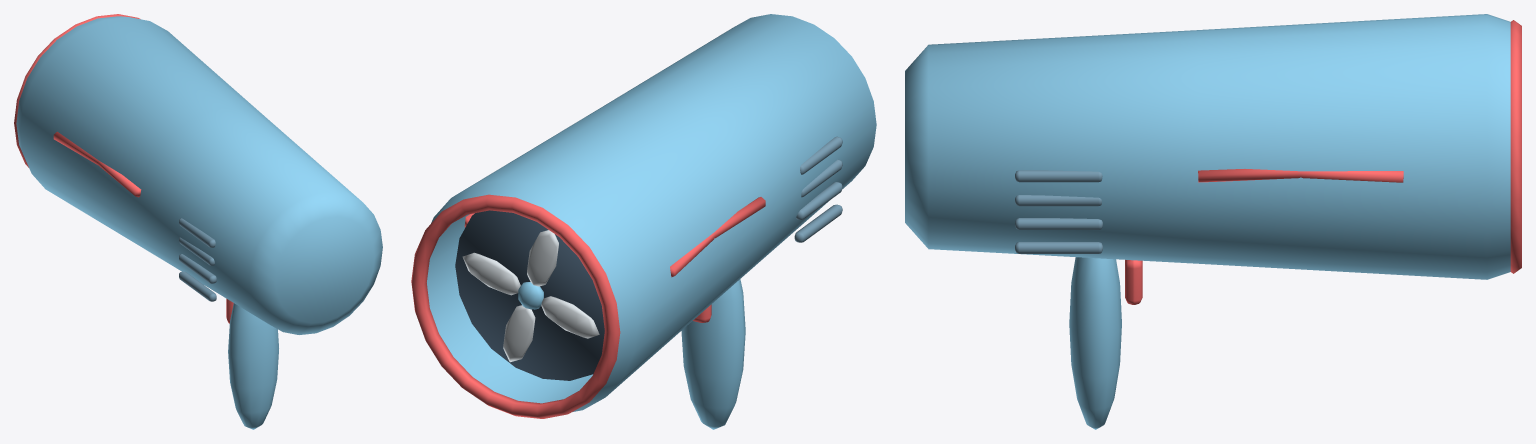
File: dryer_turbo.glb
The picture shows the model from 3 angles, left to right: view 1: azimuth 30°, elevation 25°; view 2: azimuth 150°, elevation 25°; view 3: azimuth 270°, elevation 25°; orthographic projection. The views are drawn at different scales.
Parts seen in each view (by area): view 1: Body; view 2: Body, Fan; view 3: Body.
Boxes of the visible parts, <box> form: Body: <box>14,14,382,429</box>; Body: <box>411,14,876,429</box>; Fan: <box>462,230,599,362</box>; Body: <box>905,14,1521,429</box>.
Bounding box in the file's own units: 0.1817 × 0.3035 × 0.42.
Materials: 5 (5 with a texture image).
